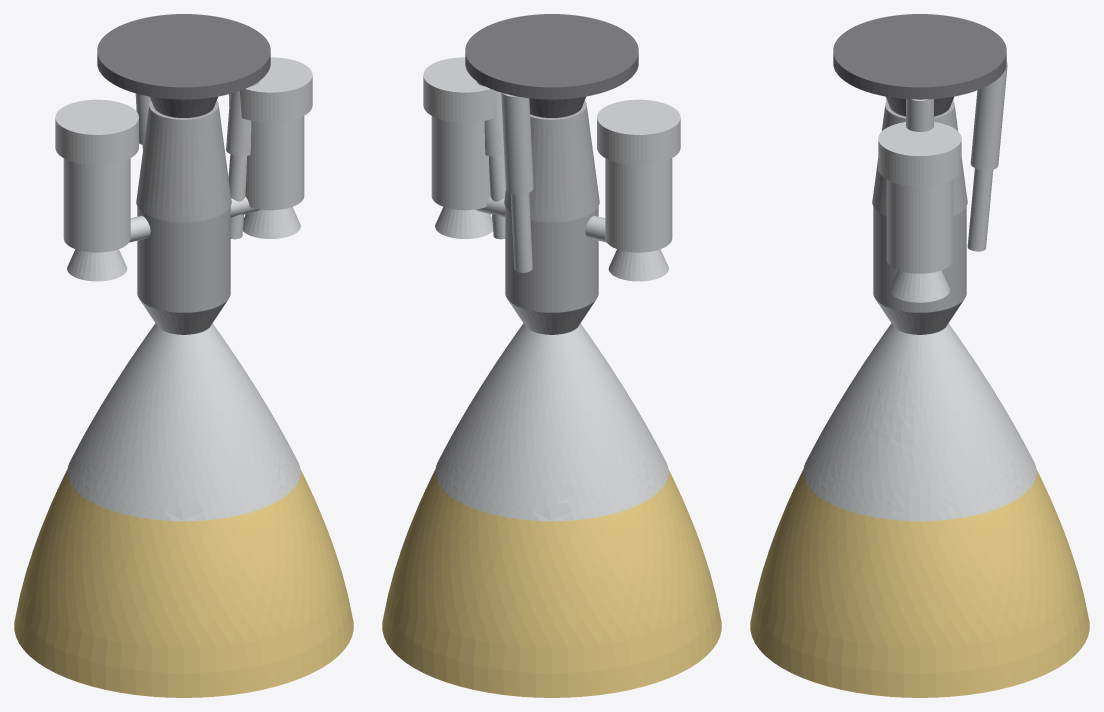
Rendered from prop14_mav_engine.glb.
The picture shows the model from 3 angles, left to right: view 1: azimuth 30°, elevation 25°; view 2: azimuth 150°, elevation 25°; view 3: azimuth 270°, elevation 25°; orthographic projection.
Parts seen in each view (by area): view 1: nozzle_extension, nozzle, turbopumps, gimbal_mount, chamber, injector_dome, gimbal_actuators, ducts; view 2: nozzle_extension, nozzle, turbopumps, gimbal_mount, chamber, injector_dome, gimbal_actuators, ducts; view 3: nozzle_extension, nozzle, gimbal_mount, turbopumps, chamber, gimbal_actuators, injector_dome.
Part boxes in pixels (x1,y1,x2,y2): nozzle_extension: [14, 469, 353, 697]; nozzle: [67, 323, 300, 521]; turbopumps: [55, 57, 312, 281]; gimbal_mount: [97, 14, 270, 117]; chamber: [137, 207, 230, 334]; injector_dome: [136, 100, 231, 222]; gimbal_actuators: [135, 81, 259, 239]; ducts: [129, 196, 260, 242]; nozzle_extension: [382, 469, 721, 697]; nozzle: [435, 323, 668, 521]; turbopumps: [423, 57, 680, 281]; gimbal_mount: [465, 14, 638, 117]; chamber: [505, 207, 598, 334]; injector_dome: [504, 100, 599, 222]; gimbal_actuators: [476, 81, 533, 272]; ducts: [475, 196, 606, 242]; nozzle_extension: [750, 469, 1089, 697]; nozzle: [803, 323, 1036, 521]; gimbal_mount: [833, 14, 1006, 116]; turbopumps: [878, 100, 961, 302]; chamber: [873, 207, 966, 334]; gimbal_actuators: [906, 62, 1007, 251]; injector_dome: [872, 100, 967, 216].
Bounding box in the file's own units: 1.02 × 1.9 × 1.02.
